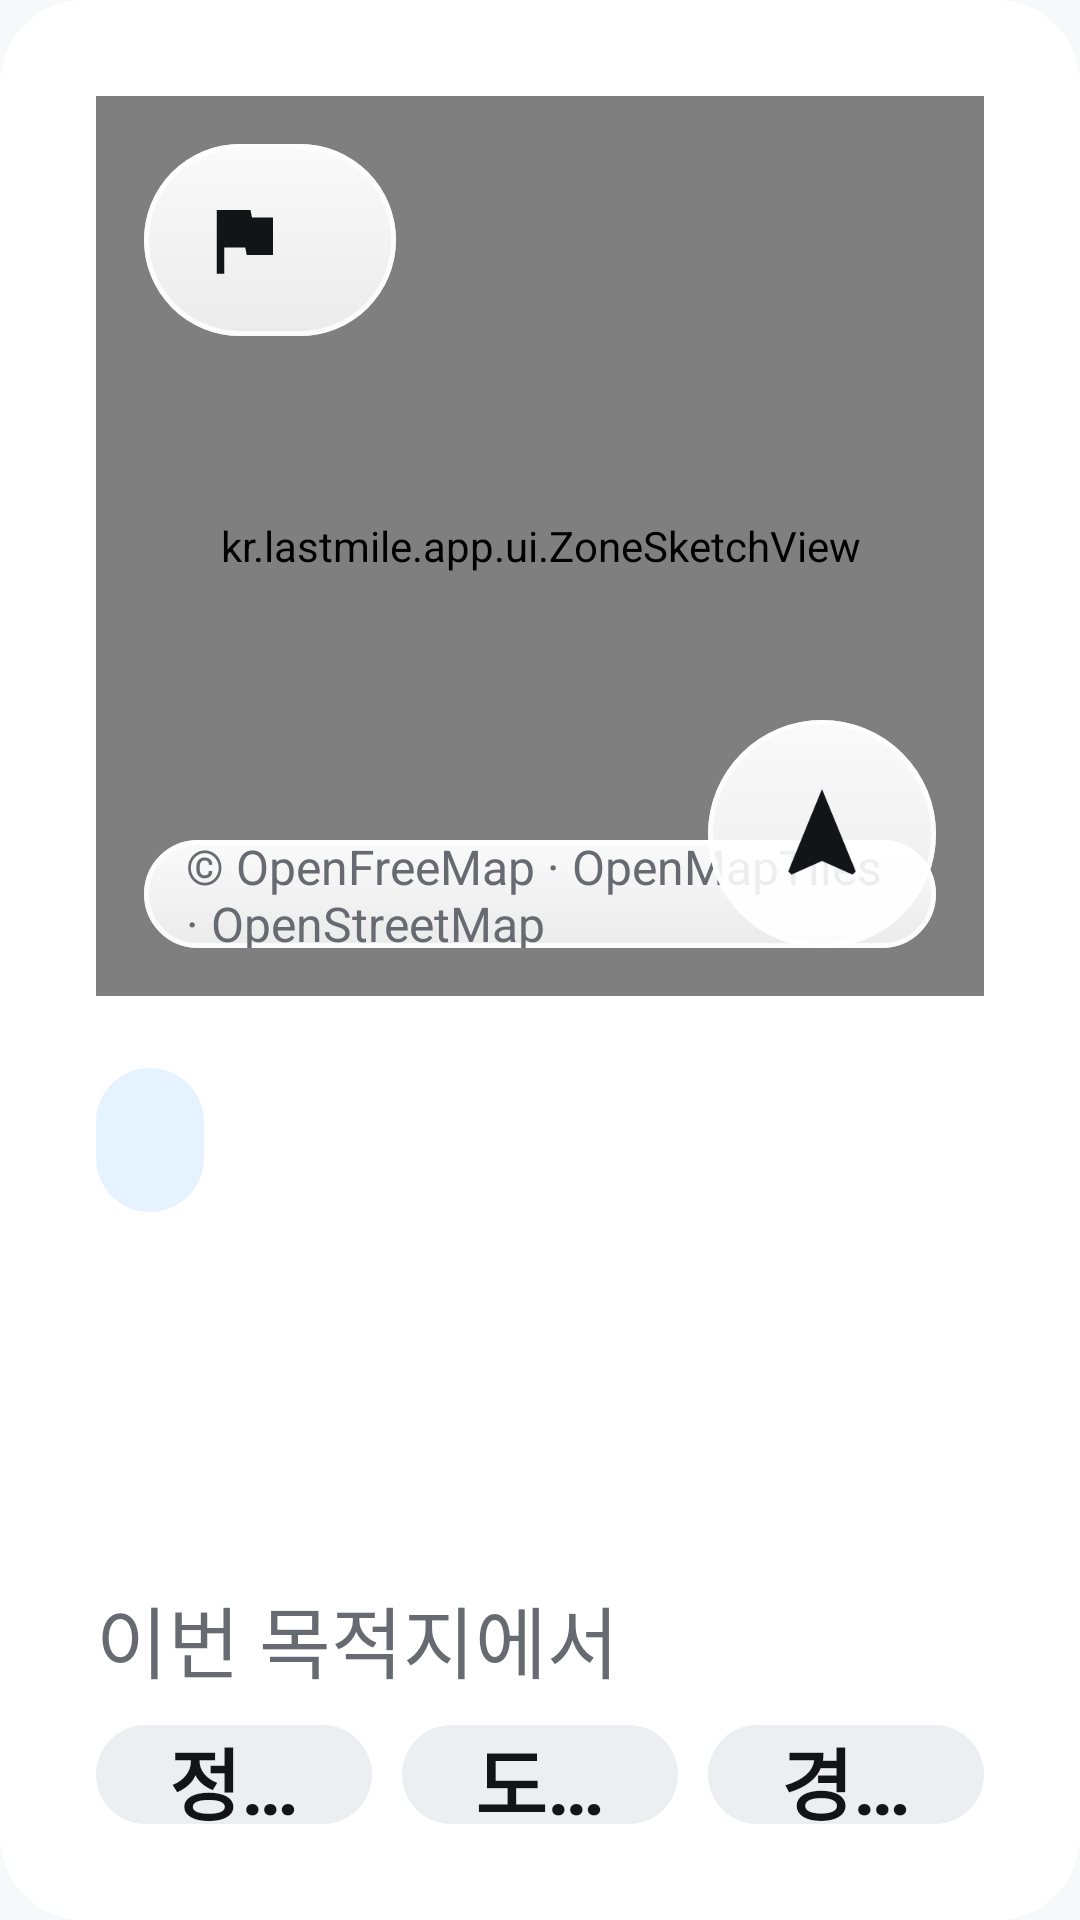

Named icons in this screenshot (1080×1920) and their centers, [x,y]:
flag: [244,242]
현재 위치로: [822,834]
